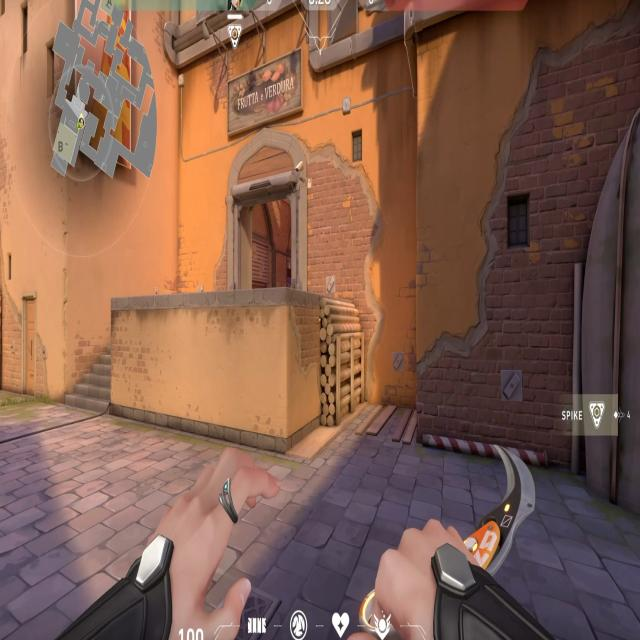B_Cubby: (281, 288, 367, 434)
